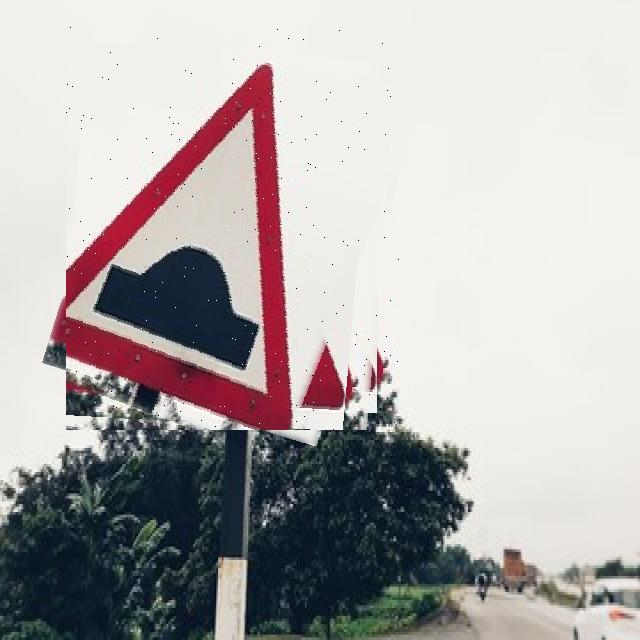hump: (66, 25, 401, 430)
